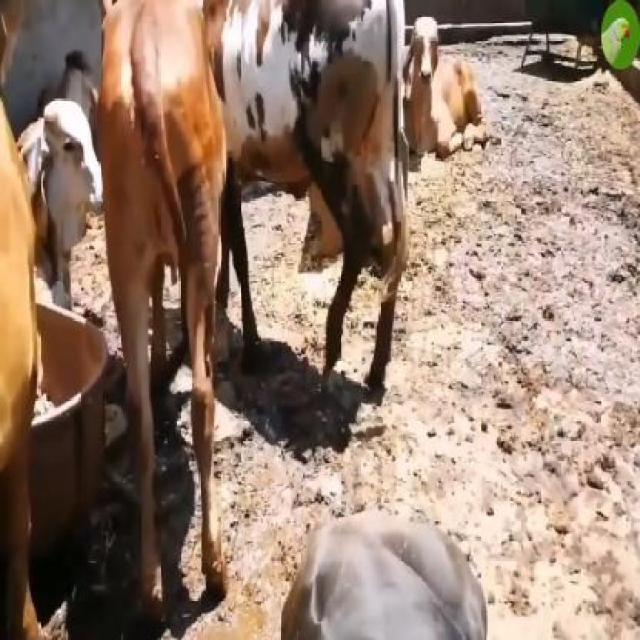Cow: (403, 14, 486, 152)
